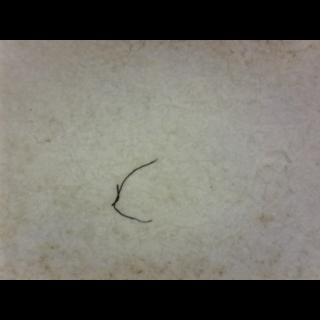Microplastic: (88, 137, 166, 231)
